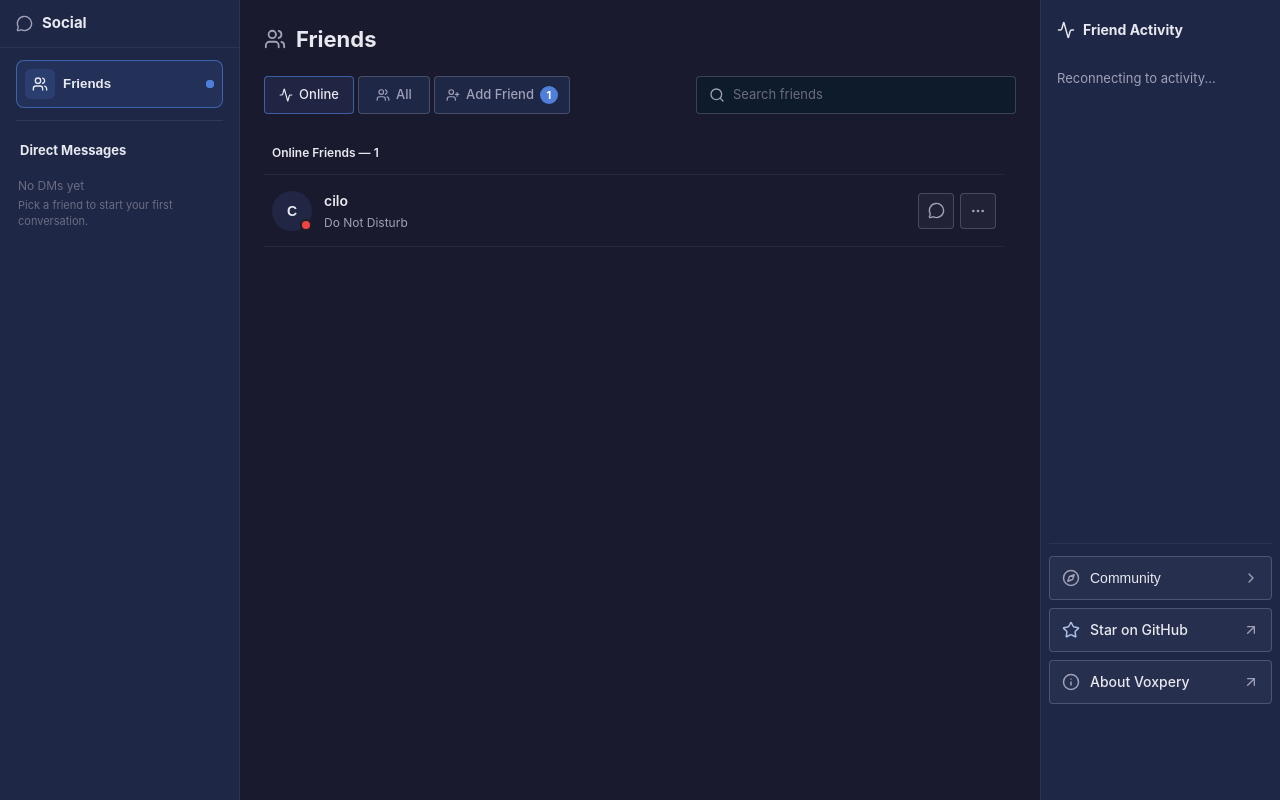
HomePage friends list › unifies Add Friend and requests in one tab without a duplicate header action
Click the button "Add Friend 1" at (502, 95), box [434,76,570,114]
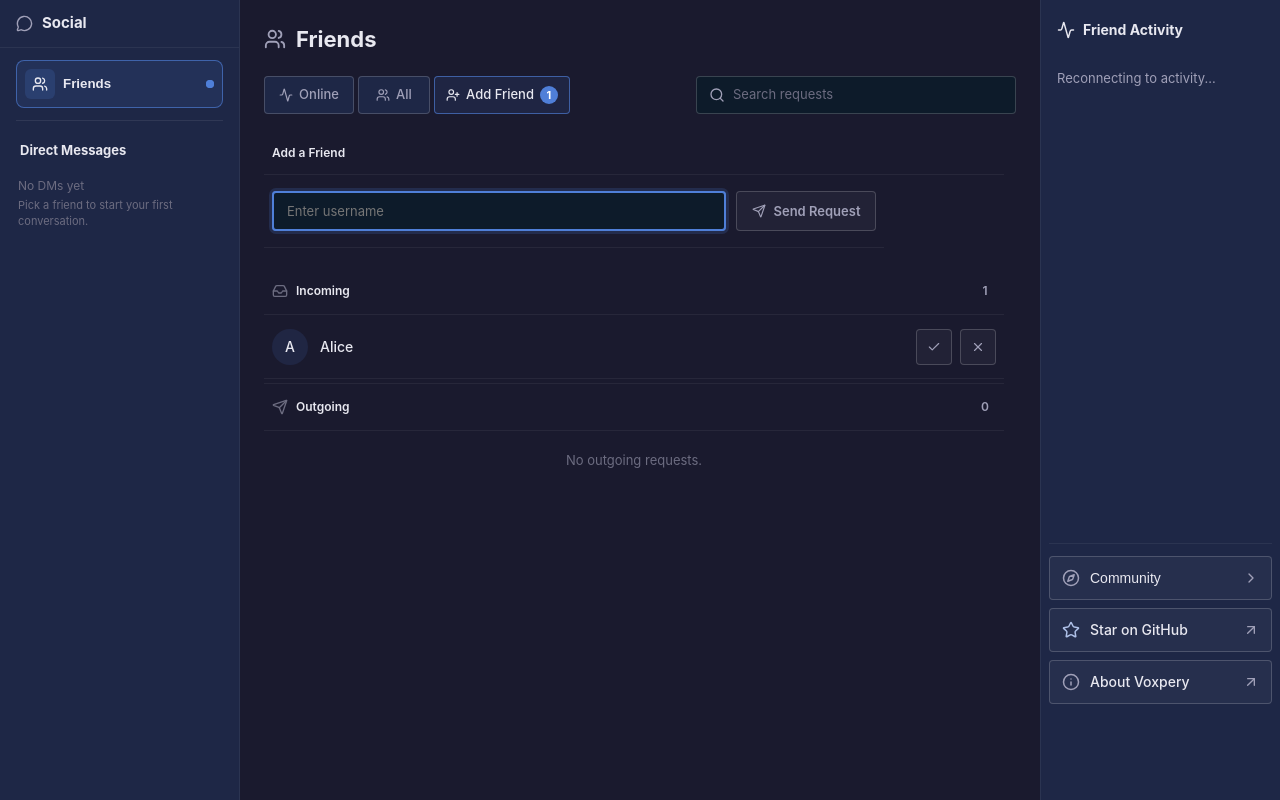
Result: the button named "Accept friend request from Alice" is shown at [916,328,952,364]
